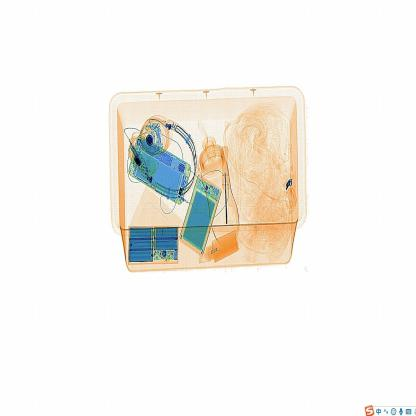wrench: (217, 136, 241, 222)
